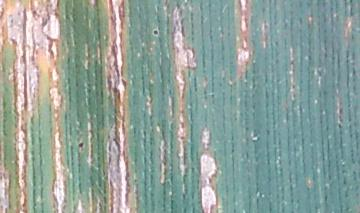tarspot: (76, 137, 86, 154), (150, 25, 161, 40)
